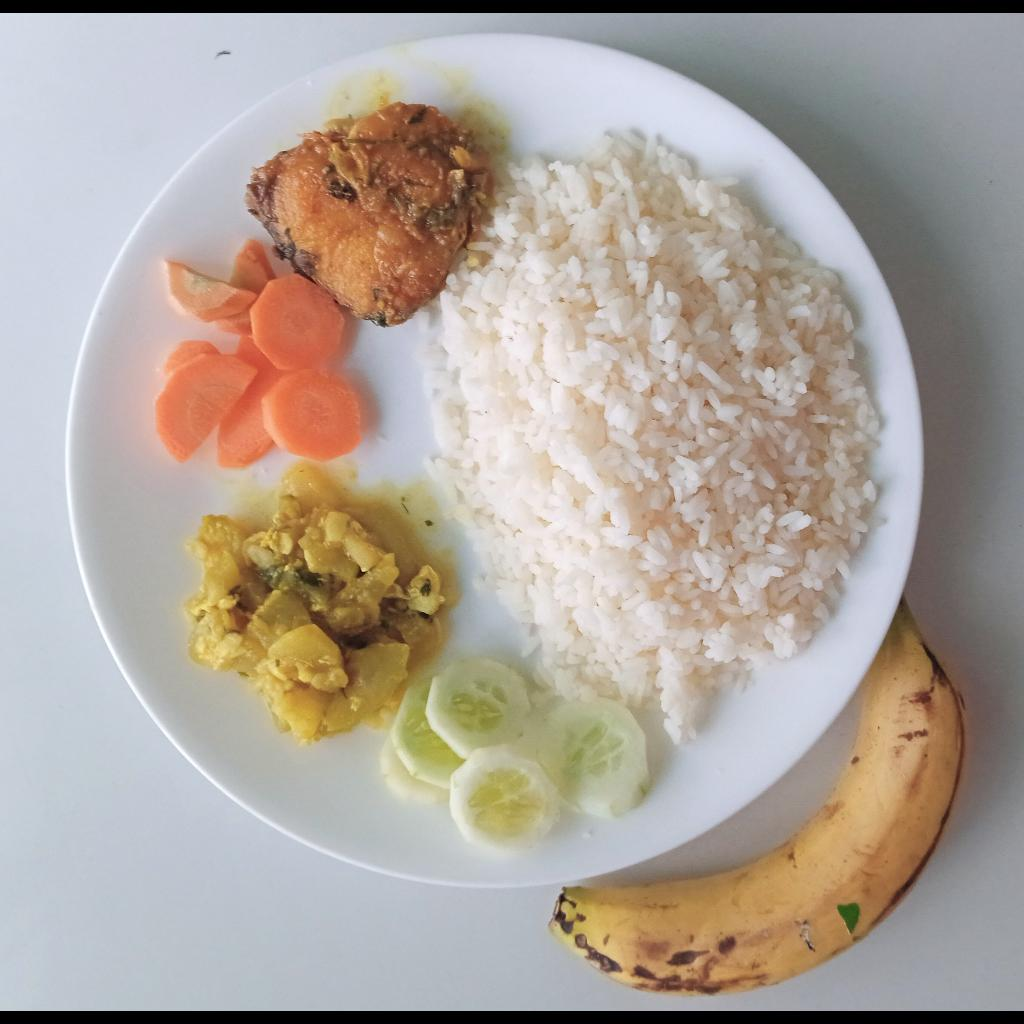banana: (548, 594, 967, 996)
carrot: (154, 239, 363, 469)
cucumber: (375, 657, 654, 859)
fish: (243, 102, 492, 328)
lau: (186, 470, 447, 745)
rice: (413, 129, 883, 742)
